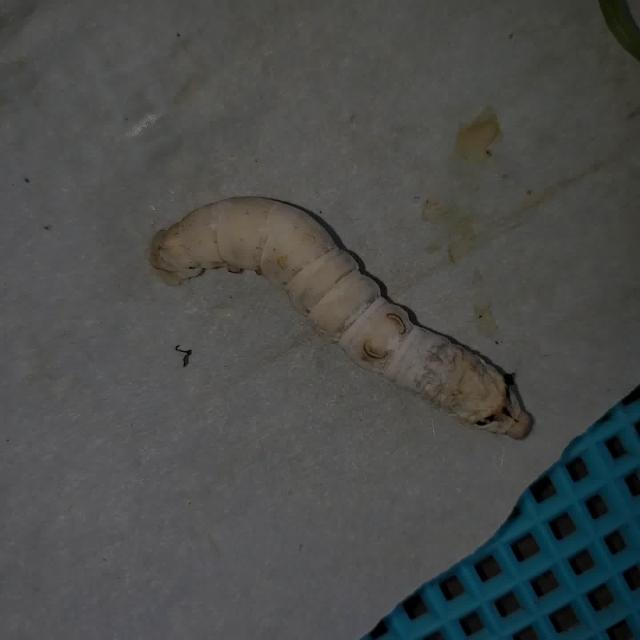Grasserie: (123, 158, 566, 504)
